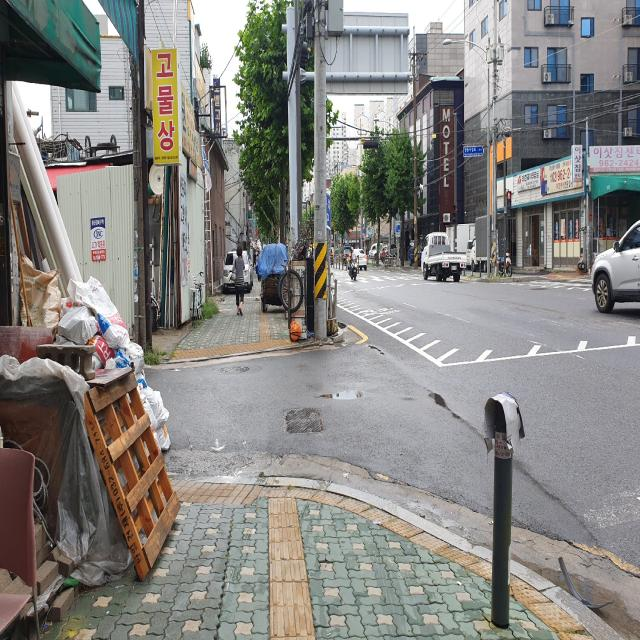car: (591, 220, 640, 314), (421, 232, 467, 282), (222, 250, 252, 294), (348, 248, 367, 270)
motorbike: (348, 255, 359, 281)
